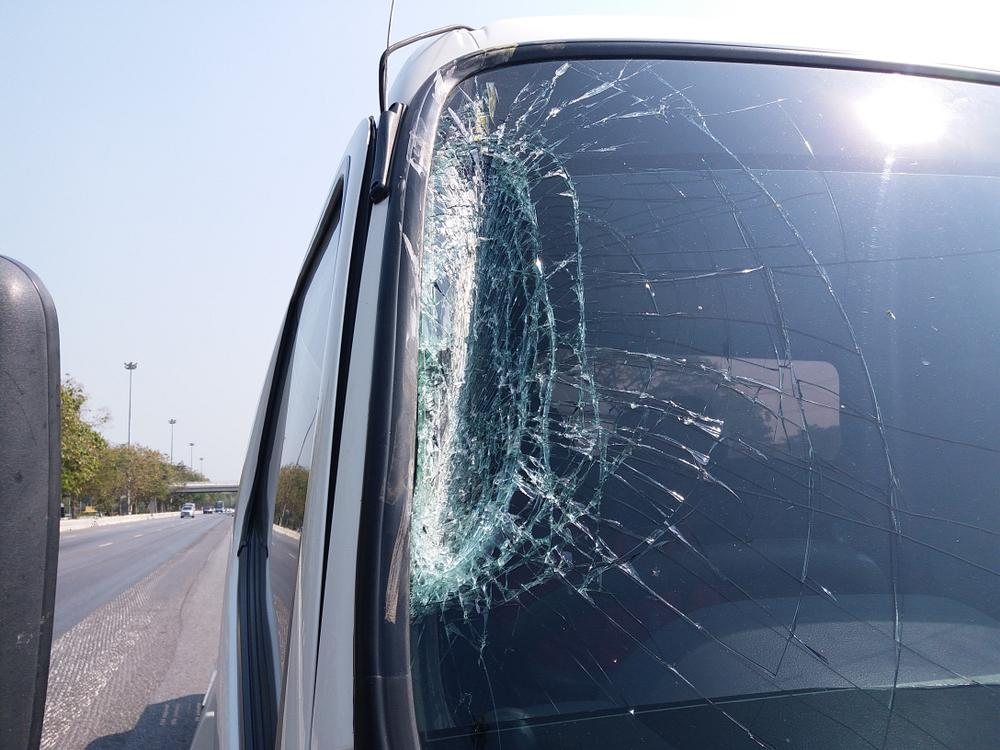glass shatter: (408, 57, 1000, 750)
